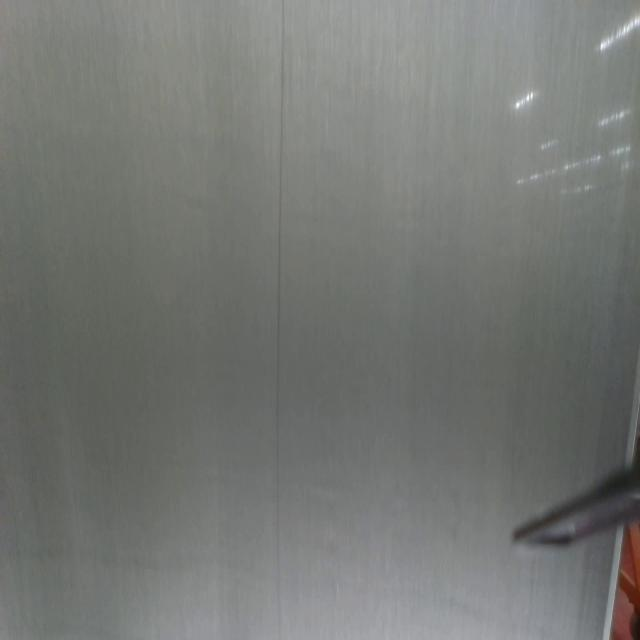crease: (272, 0, 288, 640)
